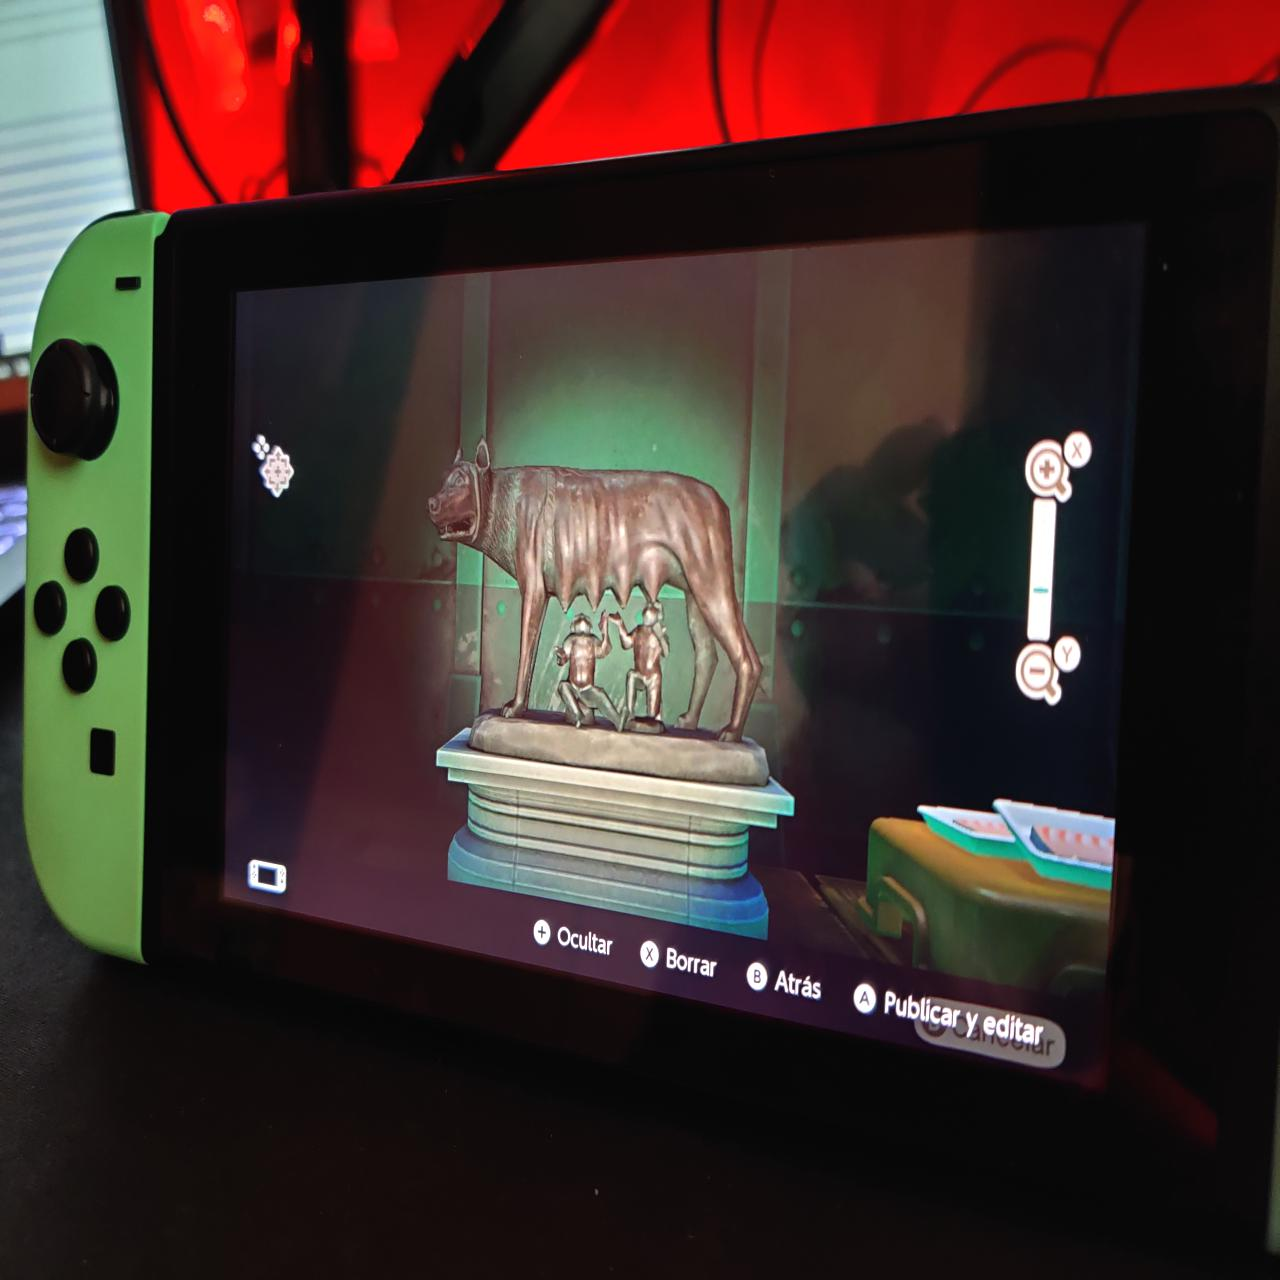Capitolini: (420, 435, 779, 797)
